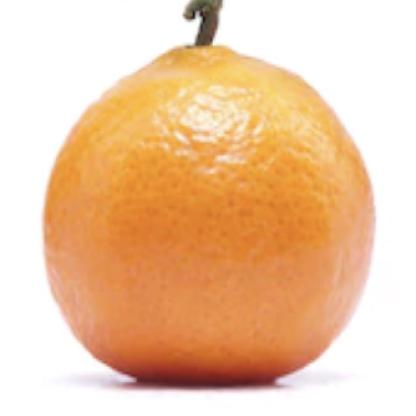fresh: (42, 35, 376, 389)
